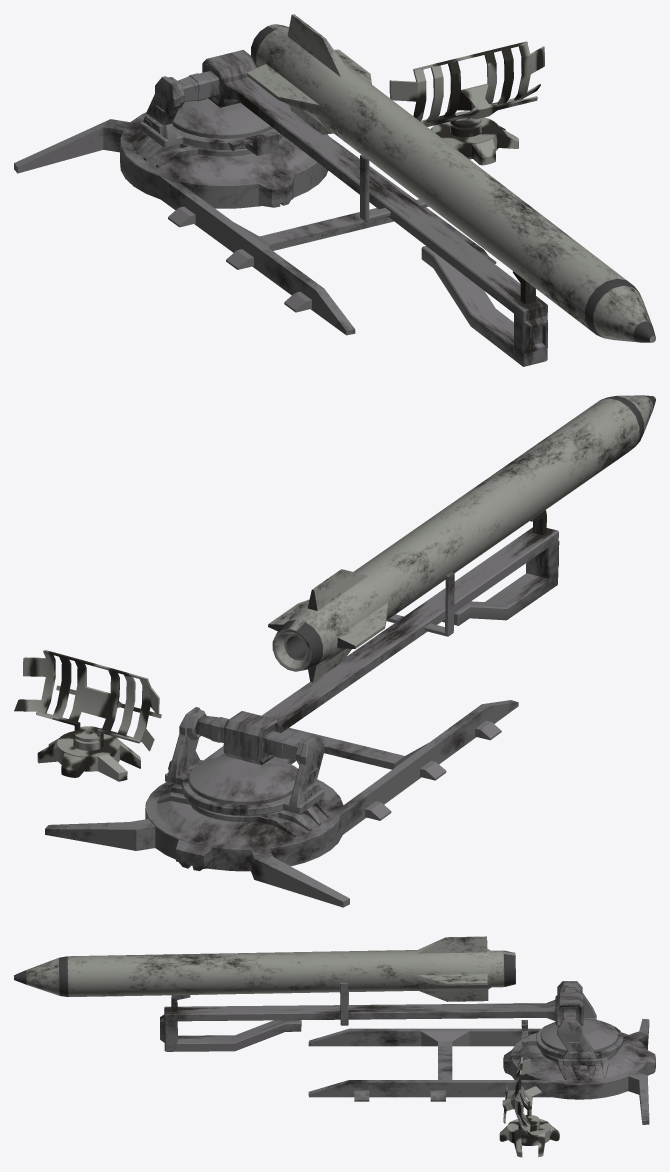
File: Missile battery.fbx
3 renders of one model, top to bottom at view 1: azimuth 30°, elevation 25°; view 2: azimuth 150°, elevation 25°; view 3: azimuth 270°, elevation 25°, orthographic. The views are drawn at different scales.
Visible parts, largest first — view 1: Missile, Missile Turret base.003, Missle Turret carrier.003, radar.001, Missile turret arm.003, radar hub.003; view 2: Missile, Missile Turret base.003, Missle Turret carrier.003, radar.001, Missile turret arm.003, radar hub.003; view 3: Missile, Missile Turret base.003, Missle Turret carrier.003, Missile turret arm.003, radar.001, radar hub.003.
Part boxes in pixels (x1,y1,x2,y2): Missile: (247,14,655,342); Missile Turret base.003: (14,98,496,335); Missle Turret carrier.003: (178,50,547,366); radar.001: (389,41,544,137); Missile turret arm.003: (140,76,289,155); radar hub.003: (430,117,518,165); Missile: (268,395,655,682); Missile Turret base.003: (45,700,518,907); Missle Turret carrier.003: (195,510,559,765); radar.001: (14,650,161,751); Missile turret arm.003: (165,707,324,815); radar hub.003: (37,731,140,781); Missile: (14,936,515,1001); Missile Turret base.003: (308,1018,655,1124); Missle Turret carrier.003: (160,982,583,1051); Missile turret arm.003: (521,981,623,1065); radar.001: (502,1057,541,1138); radar hub.003: (499,1119,559,1157).
Size of the model in its own units: 1324 by 615 by 2561.
3 materials, 3 textured.
